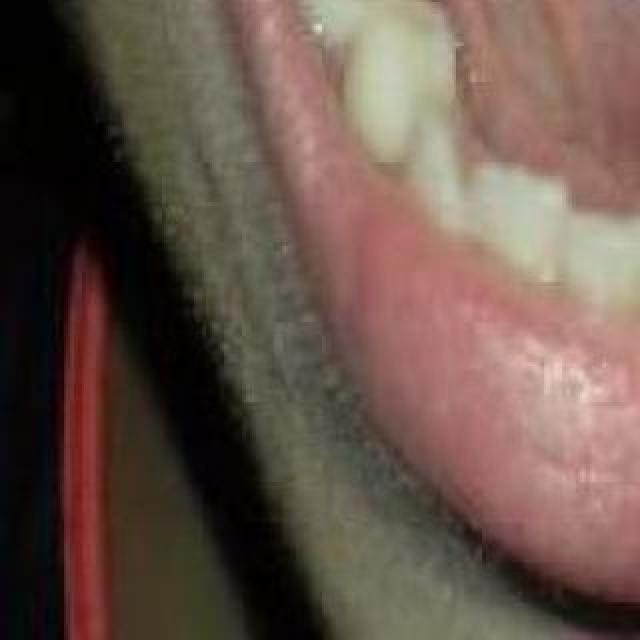maligned: (445, 131, 567, 271), (533, 215, 631, 329), (624, 172, 640, 336)
